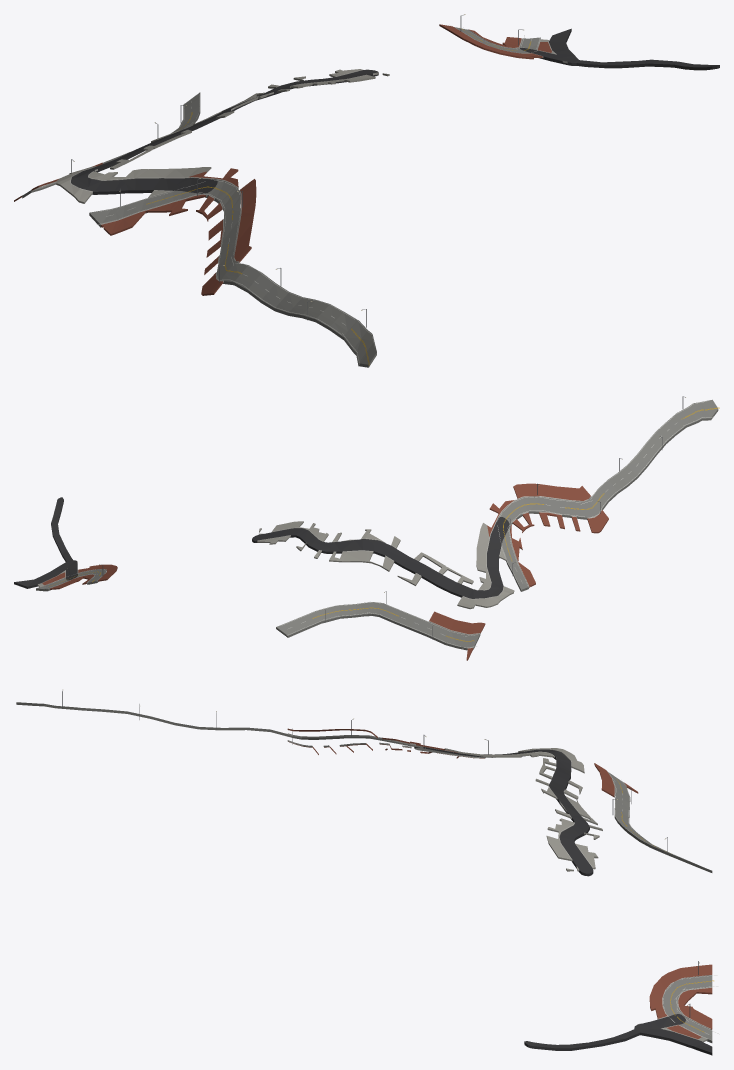
The model's file is 17-109469-59484.8cbd959f.glb.
The picture shows the model from 3 angles, top to bottom: view 1: azimuth 30°, elevation 25°; view 2: azimuth 150°, elevation 25°; view 3: azimuth 270°, elevation 25°; orthographic projection. The views are drawn at different scales.
Size of the model in its own units: 274 by 55.44 by 296.
